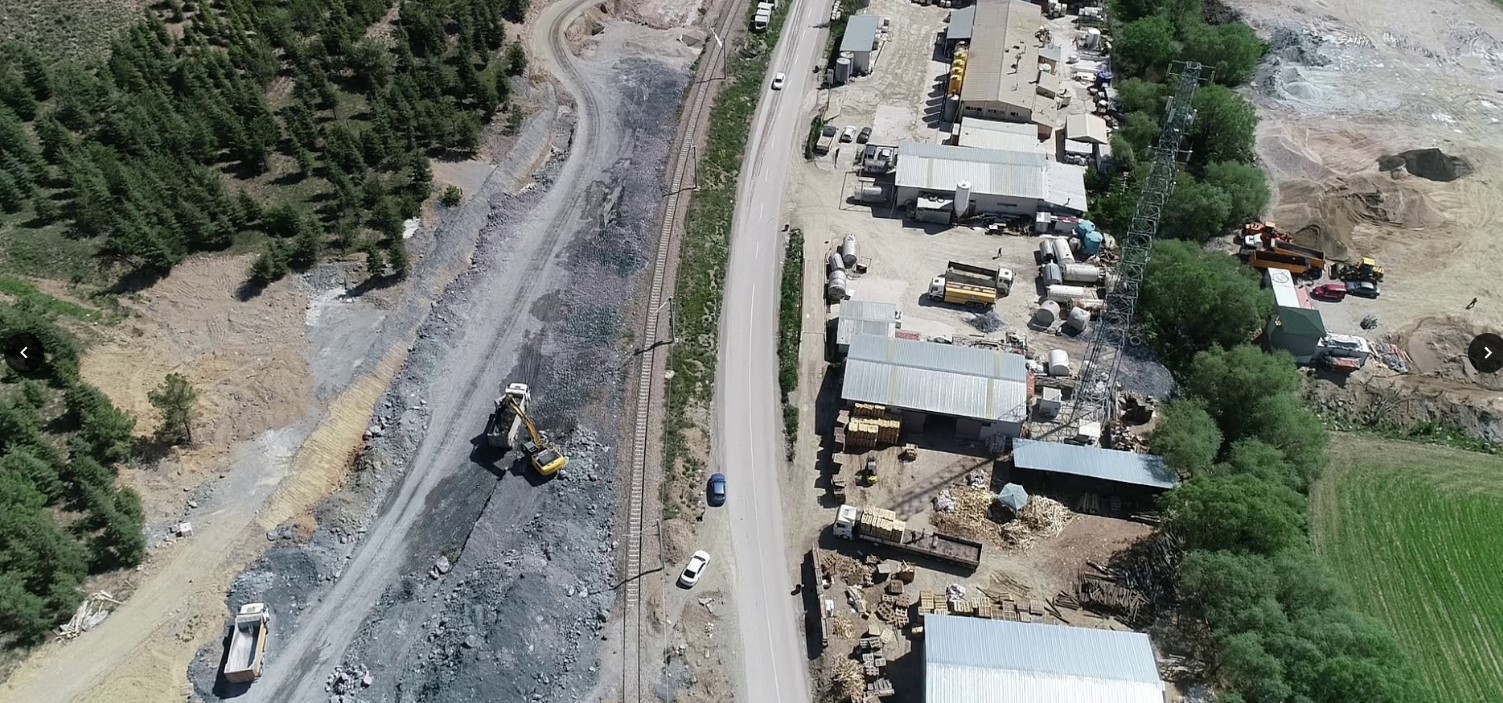araba: (680, 550, 713, 587), (703, 472, 729, 507), (1312, 280, 1345, 300), (1347, 276, 1374, 296), (840, 121, 857, 146), (769, 72, 786, 91), (860, 123, 869, 144)
insan: (1460, 290, 1481, 315)
ismakinasi: (491, 389, 567, 482)
kamyon: (835, 498, 983, 566), (213, 597, 268, 681), (1246, 231, 1331, 267), (492, 378, 529, 453), (1237, 243, 1309, 281), (926, 279, 994, 313), (948, 256, 1016, 290)
traktor: (1329, 247, 1385, 276)
